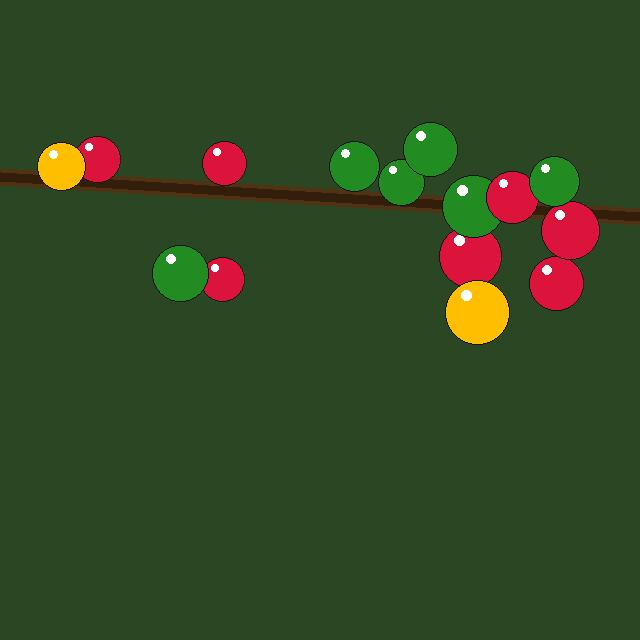Ripe: (439, 225, 501, 287), (541, 201, 599, 259), (529, 256, 583, 310), (486, 171, 538, 223), (74, 136, 120, 182), (202, 141, 246, 185), (200, 257, 244, 301)
Ripening: (445, 280, 509, 344), (37, 142, 85, 190)
Unripe: (442, 175, 504, 237), (152, 245, 208, 301), (403, 122, 457, 176), (329, 141, 379, 191), (529, 156, 579, 206), (378, 159, 424, 205)
